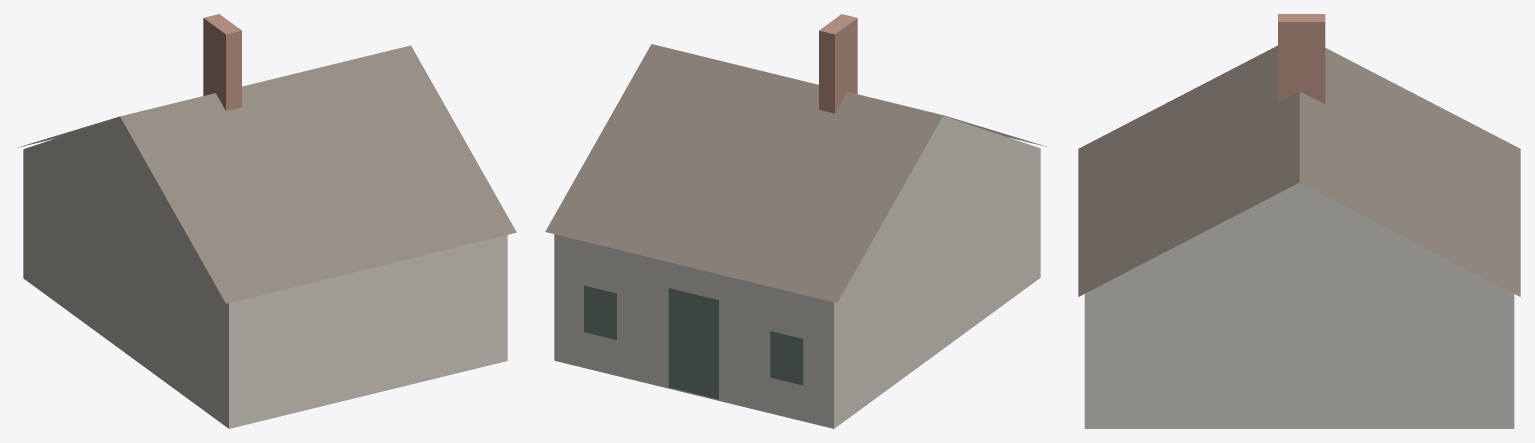
Rendered from recon_1835_south_d4_009__recommended_1835.glb.
3 views of the same model, side by side, from view 1: azimuth 30°, elevation 25°; view 2: azimuth 150°, elevation 25°; view 3: azimuth 270°, elevation 25° (orthographic). The views are drawn at different scales.
Parts seen in each view (by area): view 1: recon_1835_south_d4_009__recommended_1835; view 2: recon_1835_south_d4_009__recommended_1835; view 3: recon_1835_south_d4_009__recommended_1835.
Boxes of the visible parts, <box> form: recon_1835_south_d4_009__recommended_1835: <box>17,14,516,428</box>; recon_1835_south_d4_009__recommended_1835: <box>545,14,1046,428</box>; recon_1835_south_d4_009__recommended_1835: <box>1078,14,1520,428</box>.
Bounding box in the file's own units: 6.56 × 6.57 × 8.27.
